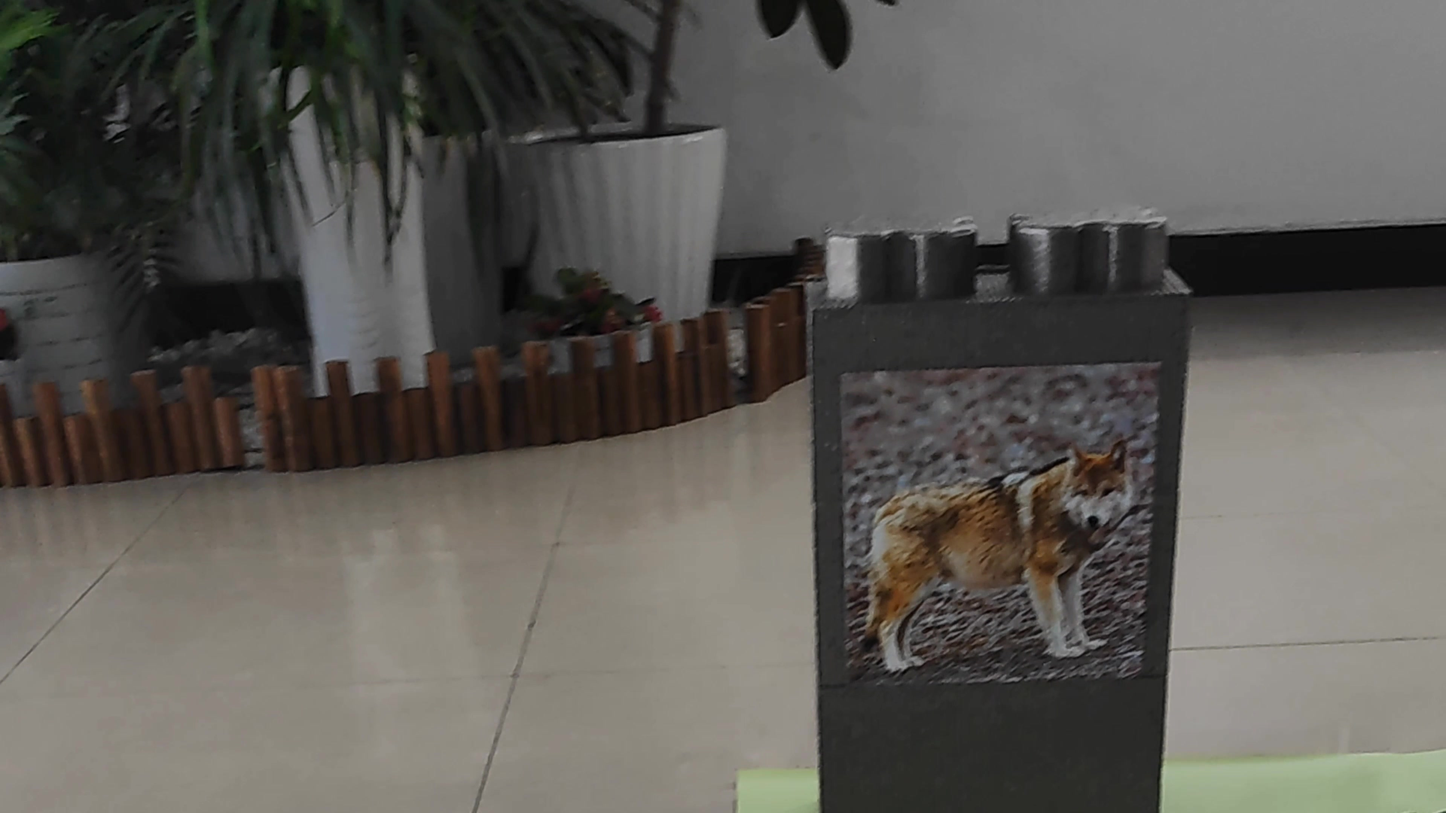wolf: (844, 385, 1147, 684)
